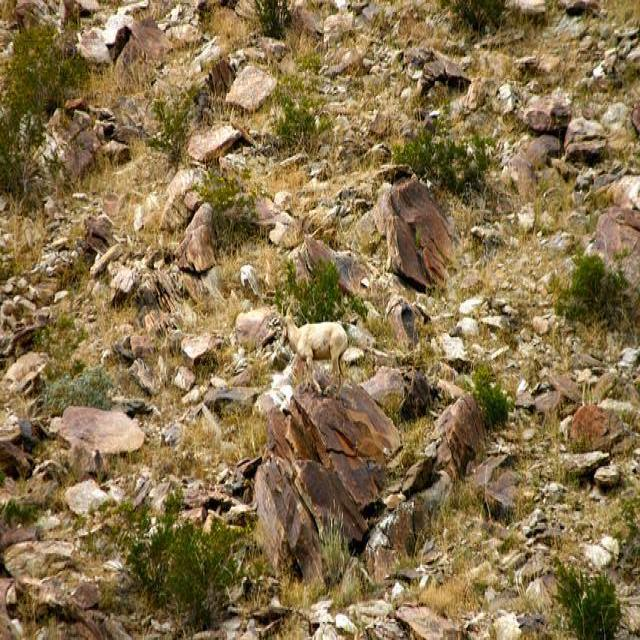Sheep: (279, 301, 349, 397)
